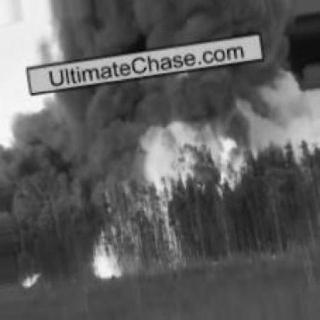Fire: (19, 267, 43, 293)
Smoke: (33, 1, 306, 118)
